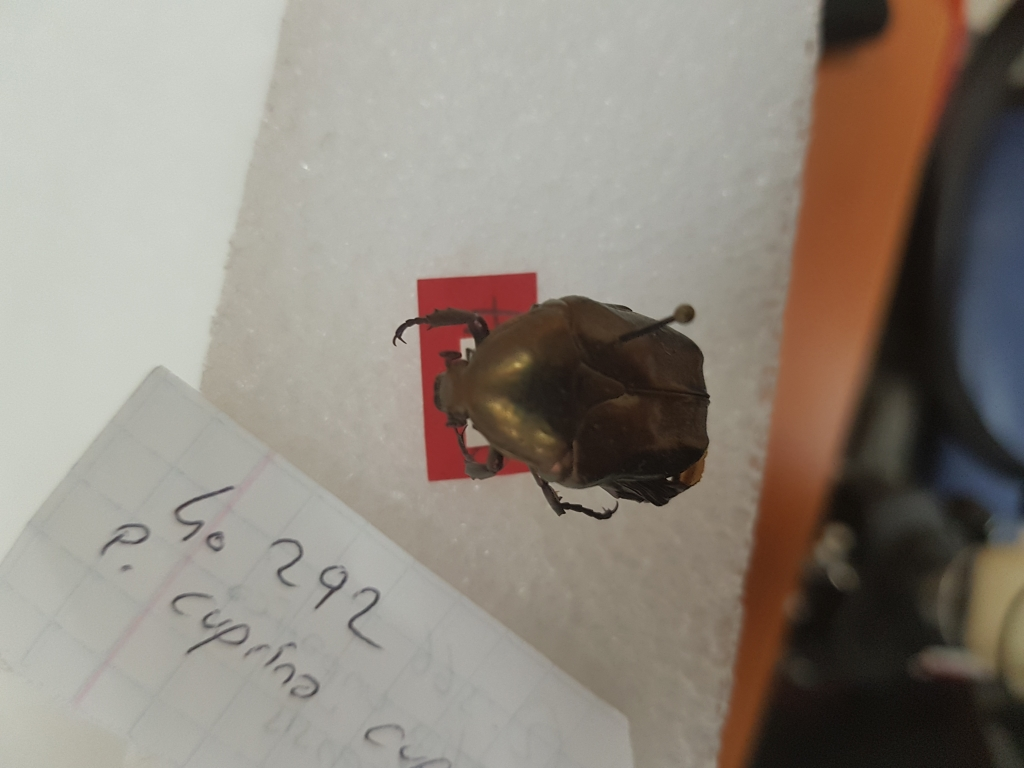Protaetia_cuprina_cuprina: (387, 279, 722, 517)
